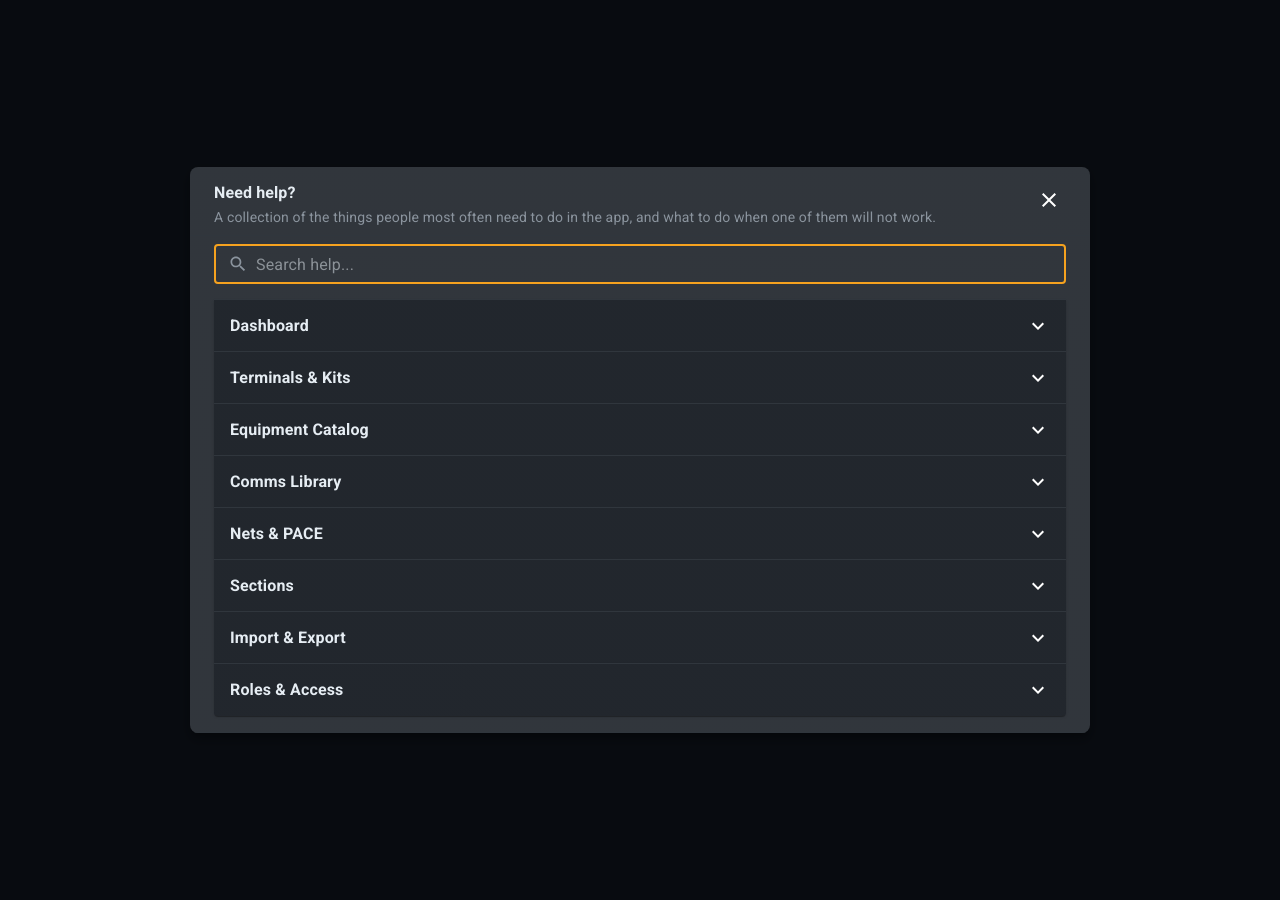
Scenario: HelpDialog › renders every group heading, and keeps topic content hidden until expanded
Expected: the heading "Dashboard" is shown, x1=230 y1=312 x2=309 y2=340
Expected: the heading "Terminals & Kits" is shown, x1=230 y1=364 x2=351 y2=392
Click the button "Terminals & Kits" at (290, 378), box x1=214 y1=352 x2=1066 y2=404
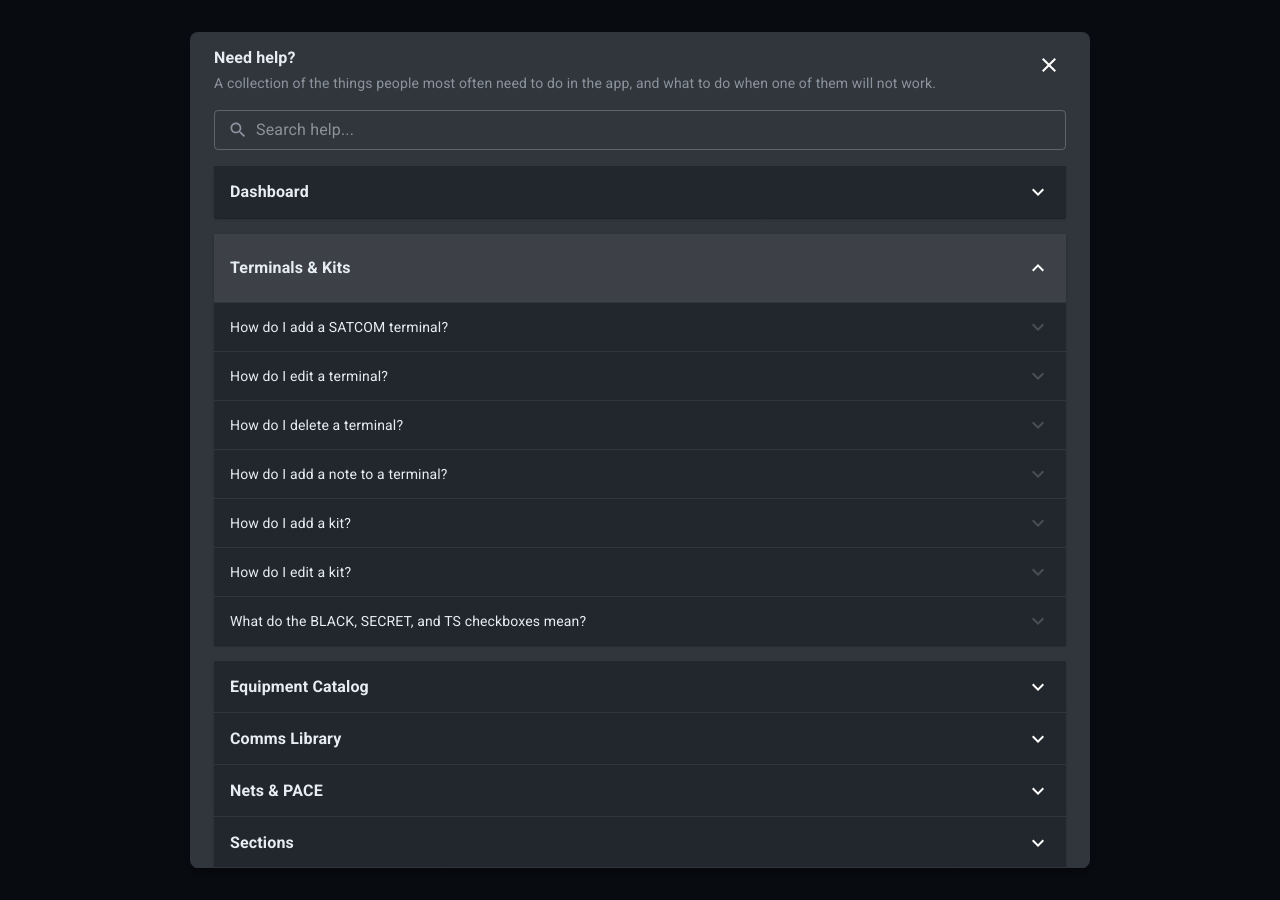
Expected: the text "Who:" is not shown
Result: the text "How do I add a SATCOM terminal?" is shown at x1=230 y1=317 x2=448 y2=337
Click the button "How do I add a SATCOM terminal?" at (339, 327), box x1=214 y1=303 x2=1066 y2=351
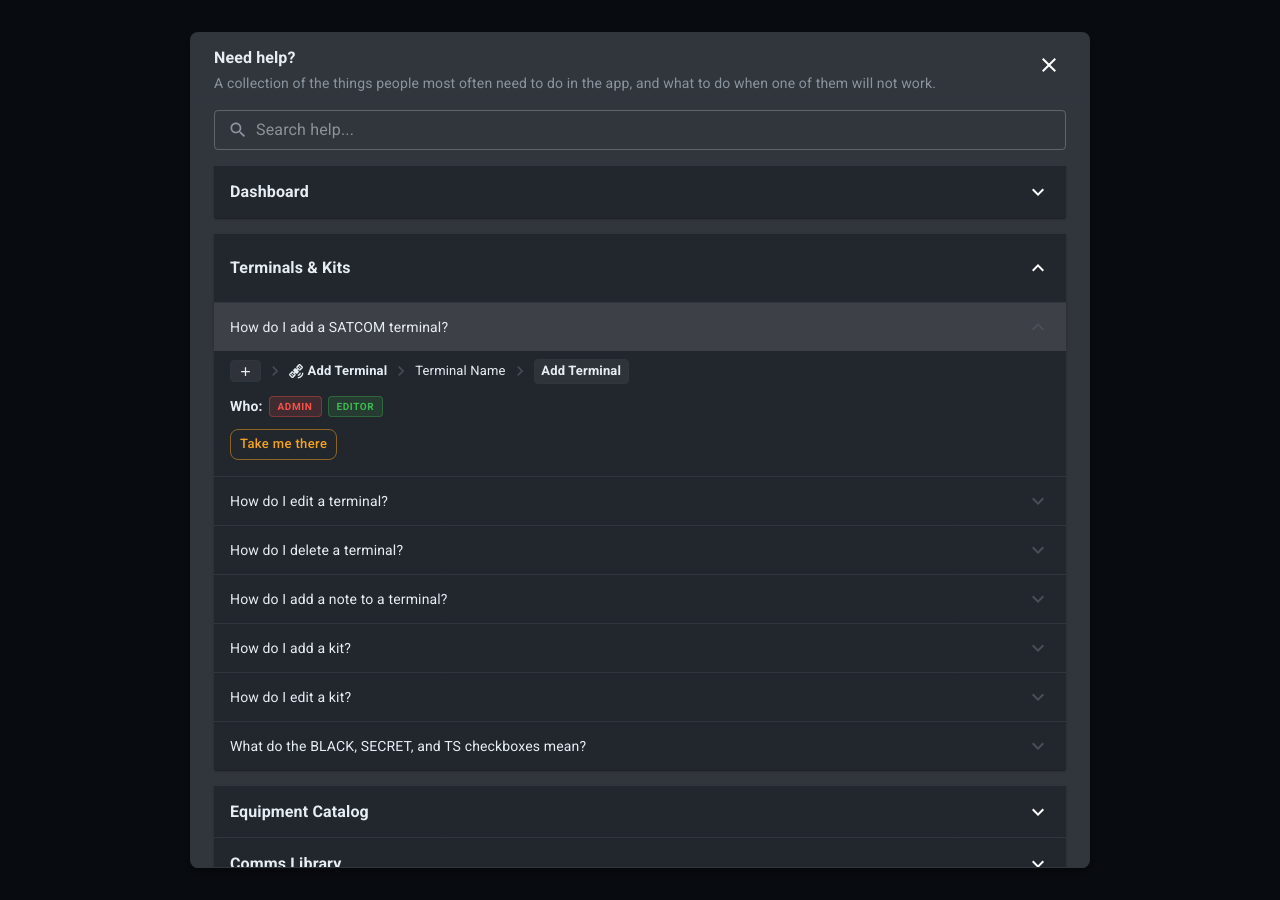
Result: the text "Who:" is shown at x1=230 y1=396 x2=262 y2=416
